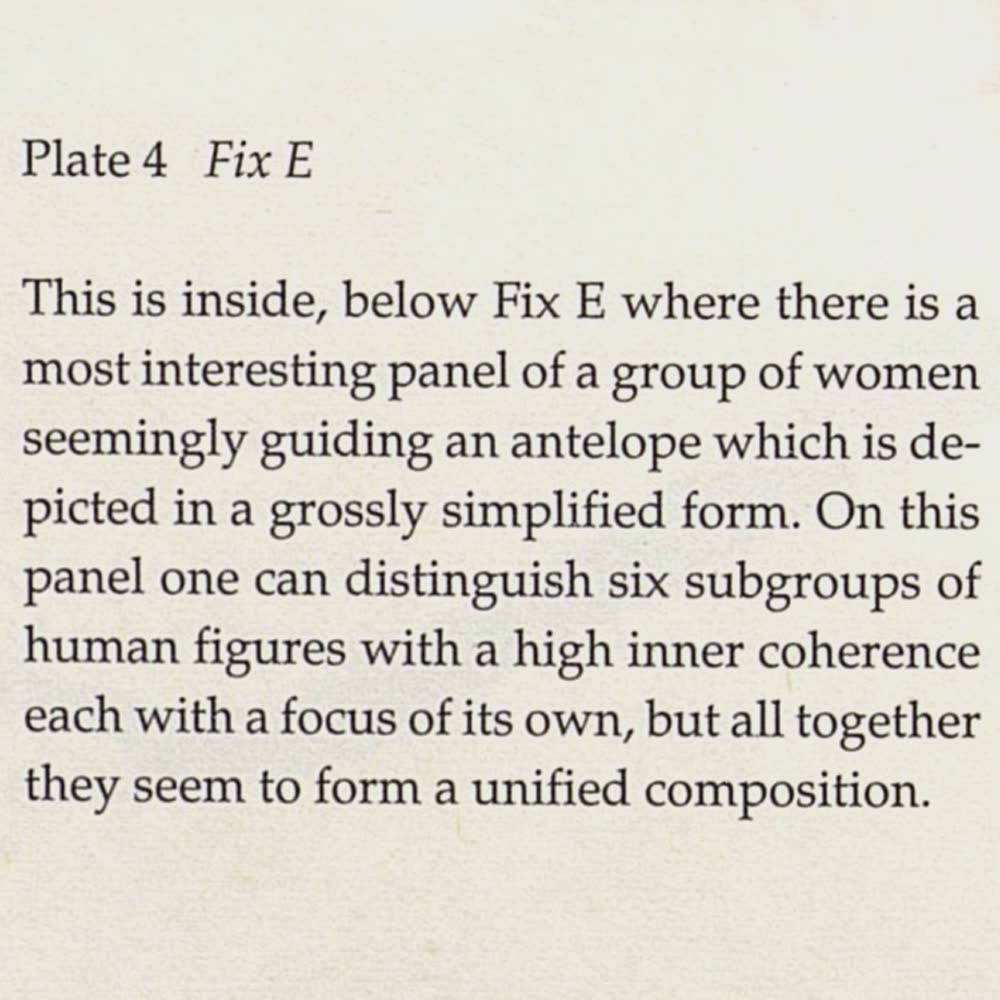text: (13, 125, 999, 832)
